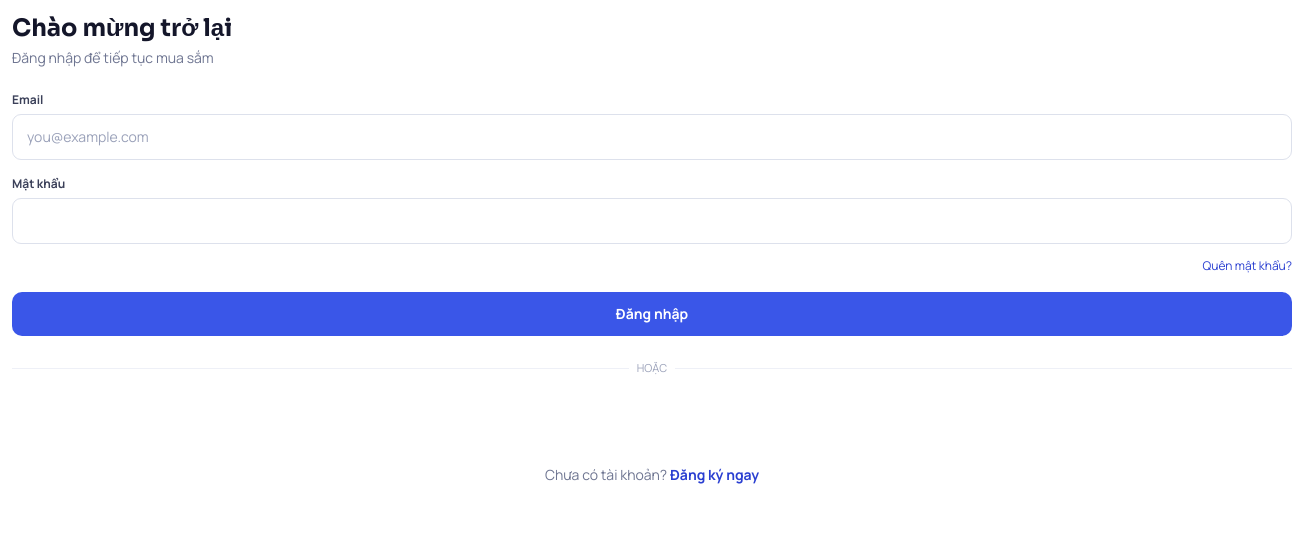
LoginForm › shows an email-format error for an invalid address
In the field labelled "Email": (652, 137) [12,114,1292,160], type "not-an-email"
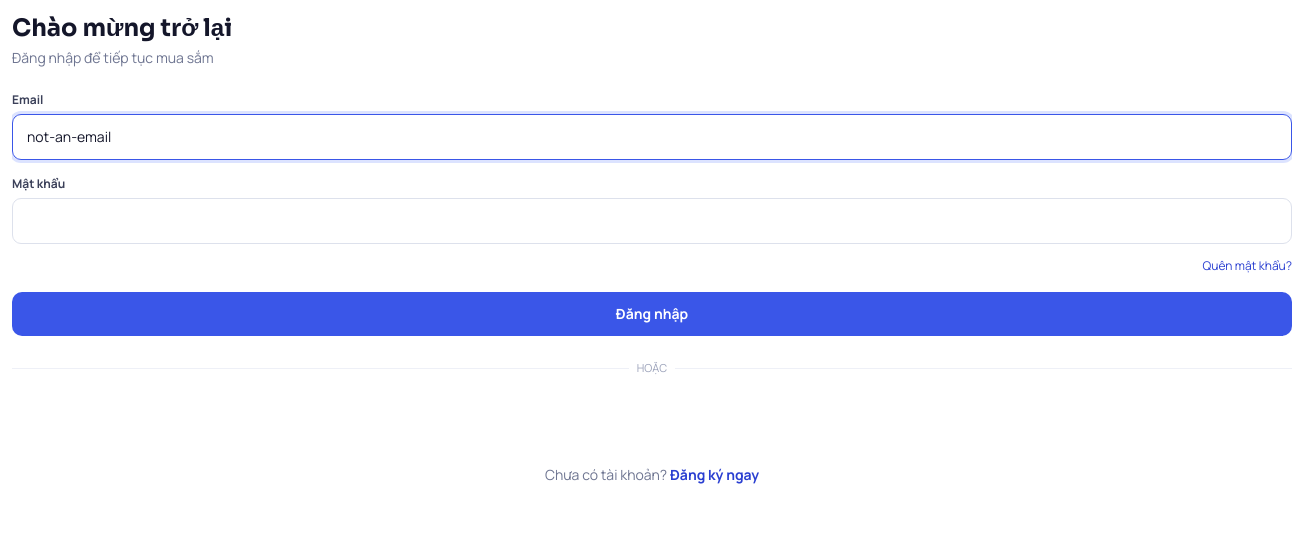
Click the button "Đăng nhập": (652, 314) [12,292,1292,336]
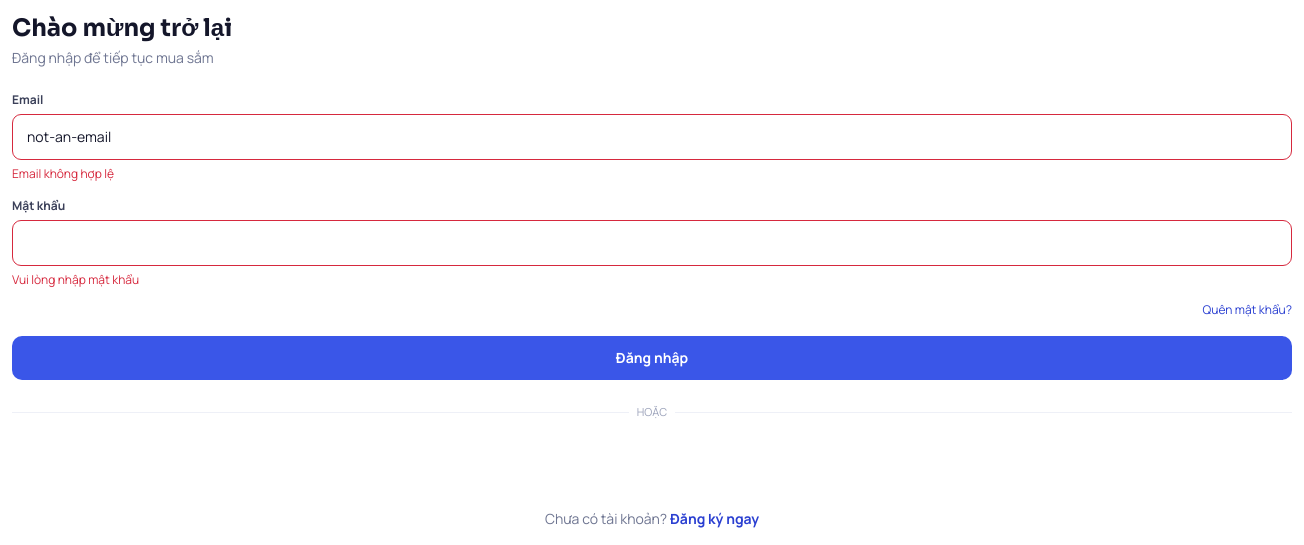
Check: the text "Email không hợp lệ" is shown, box [12,165,114,182]
